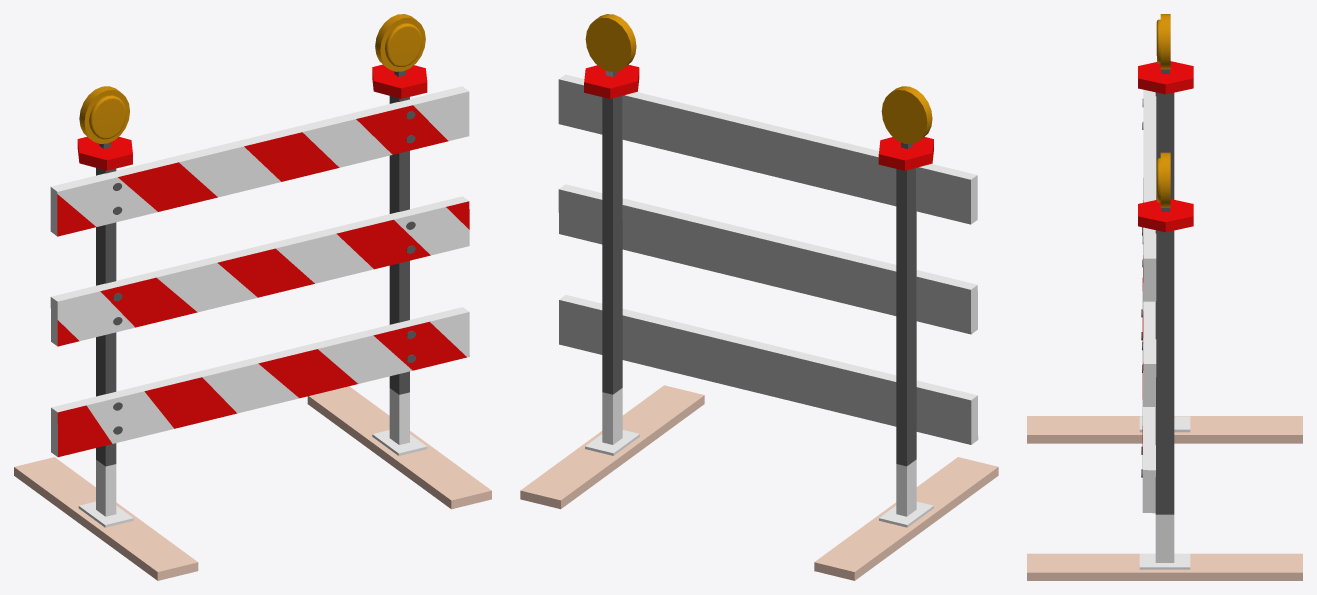
File: barrier-v1.glb
The picture shows the model from 3 angles, left to right: view 1: azimuth 30°, elevation 25°; view 2: azimuth 150°, elevation 25°; view 3: azimuth 270°, elevation 25°; orthographic projection. The views are drawn at different scales.
Visible parts, largest first — view 1: pCylinder5_lambert2_0; view 2: pCylinder5_lambert2_0; view 3: pCylinder5_lambert2_0.
Boxes of the visible parts, box(x1,y1,x2,y2) form: pCylinder5_lambert2_0: box(14, 14, 491, 580); pCylinder5_lambert2_0: box(520, 14, 998, 580); pCylinder5_lambert2_0: box(1027, 14, 1302, 580).
Bounding box in the file's own units: 4.24 × 4.28 × 2.56.
1 material, 1 textured.
